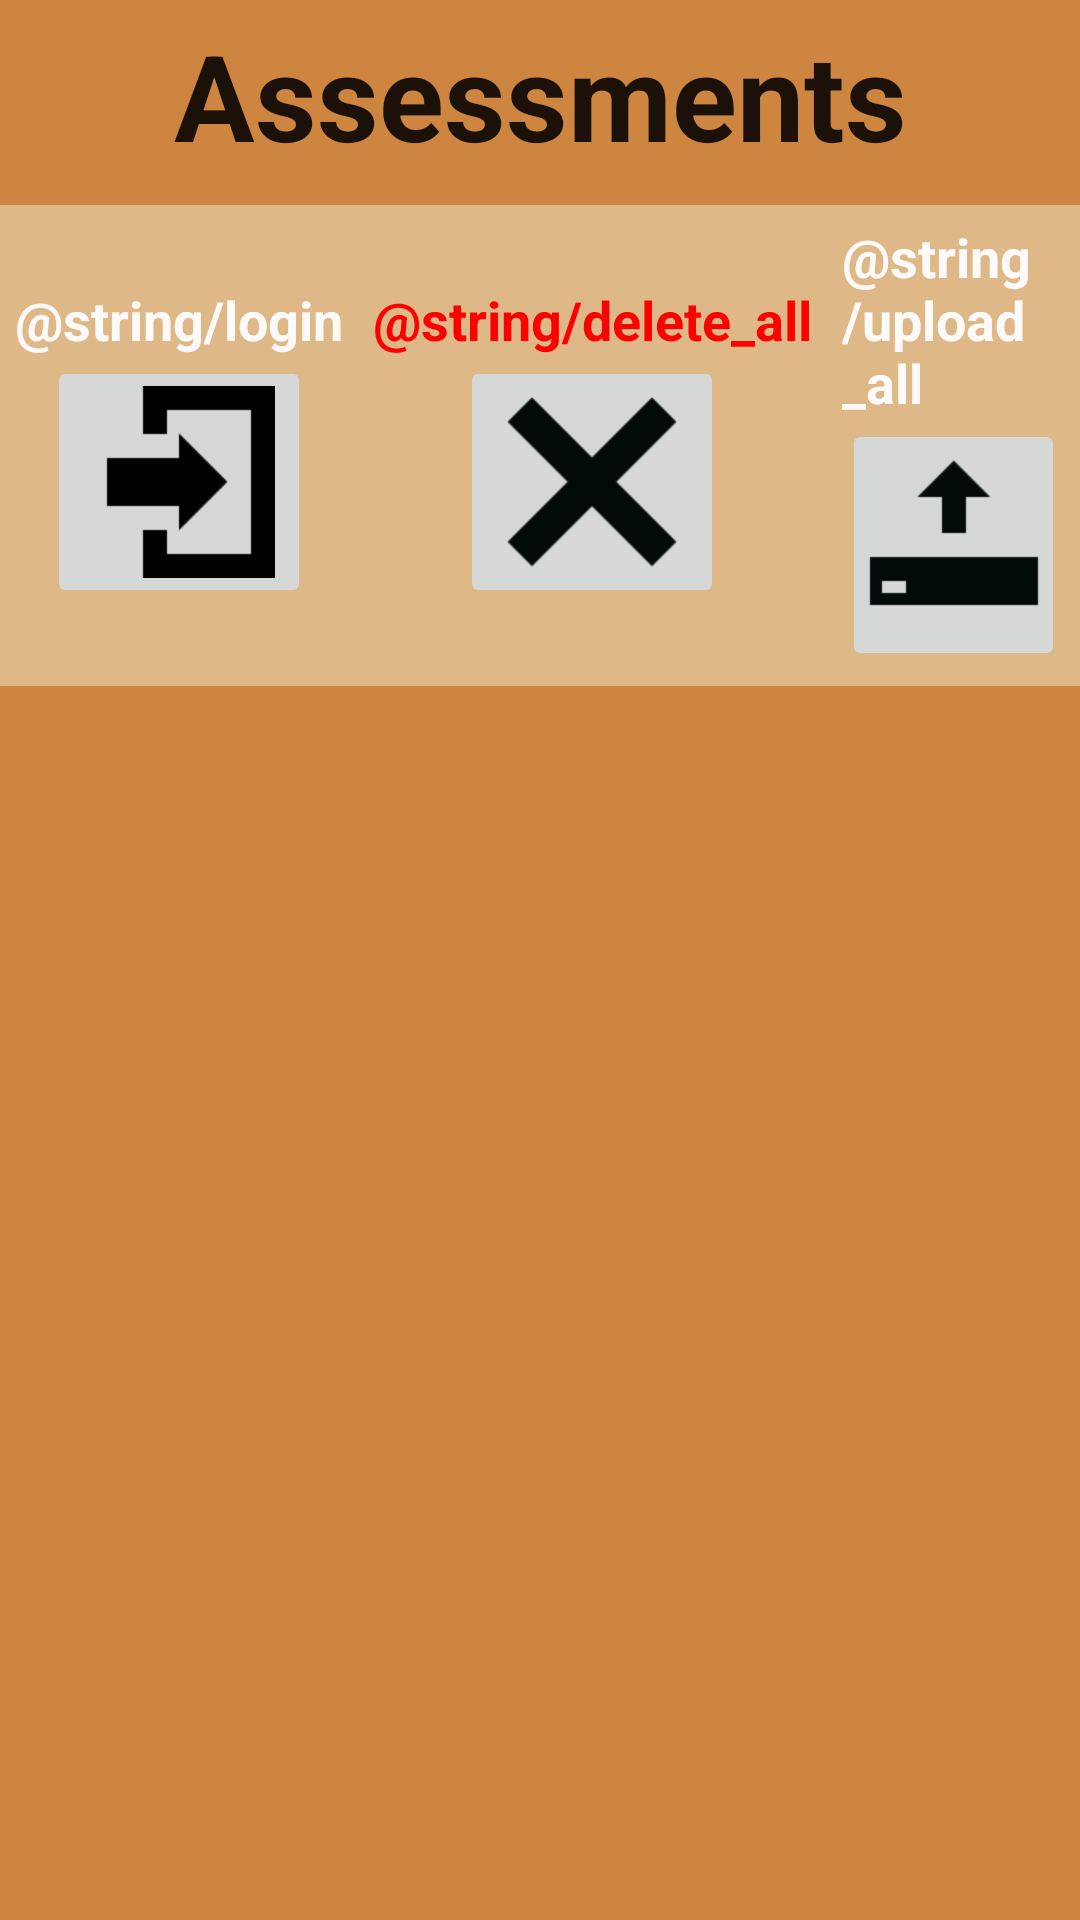

Icon click points for this 1080w x 1920h phone screenshot, format (x=x, y=y):
cancel: (x=592, y=482)
